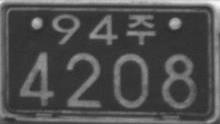0: (113, 52, 148, 109)
2: (66, 51, 103, 107)
4: (19, 51, 54, 106), (89, 13, 118, 45)
8: (161, 53, 197, 110)
9: (51, 12, 80, 44)
주: (126, 13, 156, 45)
